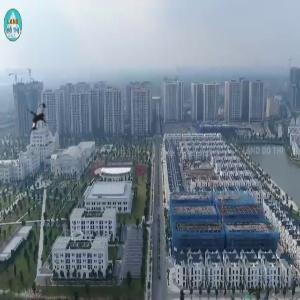drone: (7, 89, 68, 150)
